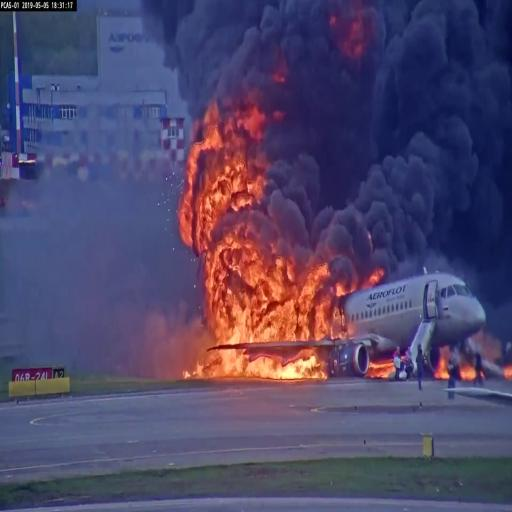fire: (216, 262, 314, 343), (214, 351, 313, 377)
smoke: (286, 2, 510, 224), (188, 0, 512, 91), (347, 119, 501, 264), (358, 113, 483, 224), (265, 152, 323, 239)
